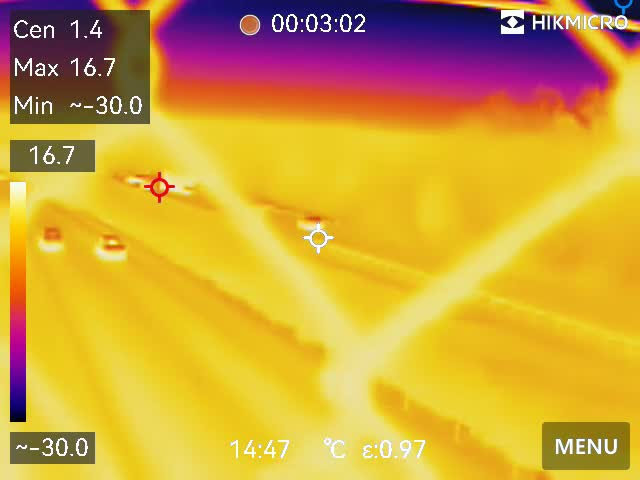vehicle: (93, 231, 125, 262), (43, 215, 67, 253)
